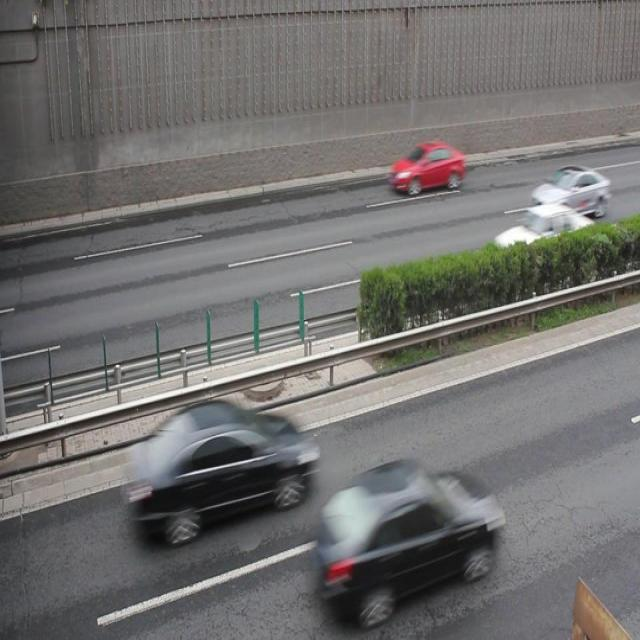car: (315, 458, 500, 624), (122, 402, 308, 544), (489, 203, 602, 271), (390, 138, 464, 196), (530, 163, 608, 217)
